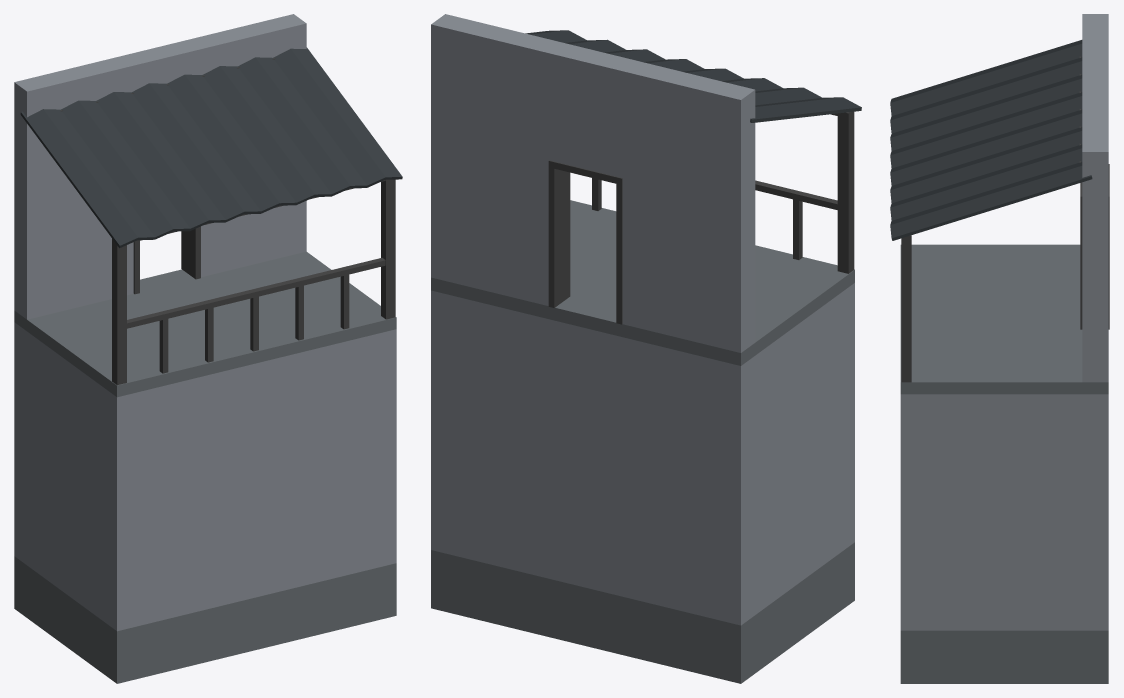
Rendered from Wall3_10.fbx.
3 views of the same model, side by side, from view 1: azimuth 30°, elevation 25°; view 2: azimuth 150°, elevation 25°; view 3: azimuth 270°, elevation 25° (orthographic). The views are drawn at different scales.
Parts seen in each view (by area): view 1: Wall3_10; view 2: Wall3_10; view 3: Wall3_10.
Boxes of the visible parts, box(x1,y1,x2,y2) form: Wall3_10: box(14, 14, 402, 683); Wall3_10: box(431, 14, 861, 683); Wall3_10: box(890, 14, 1109, 683).
Size of the model in its own units: 506 by 900 by 337.
